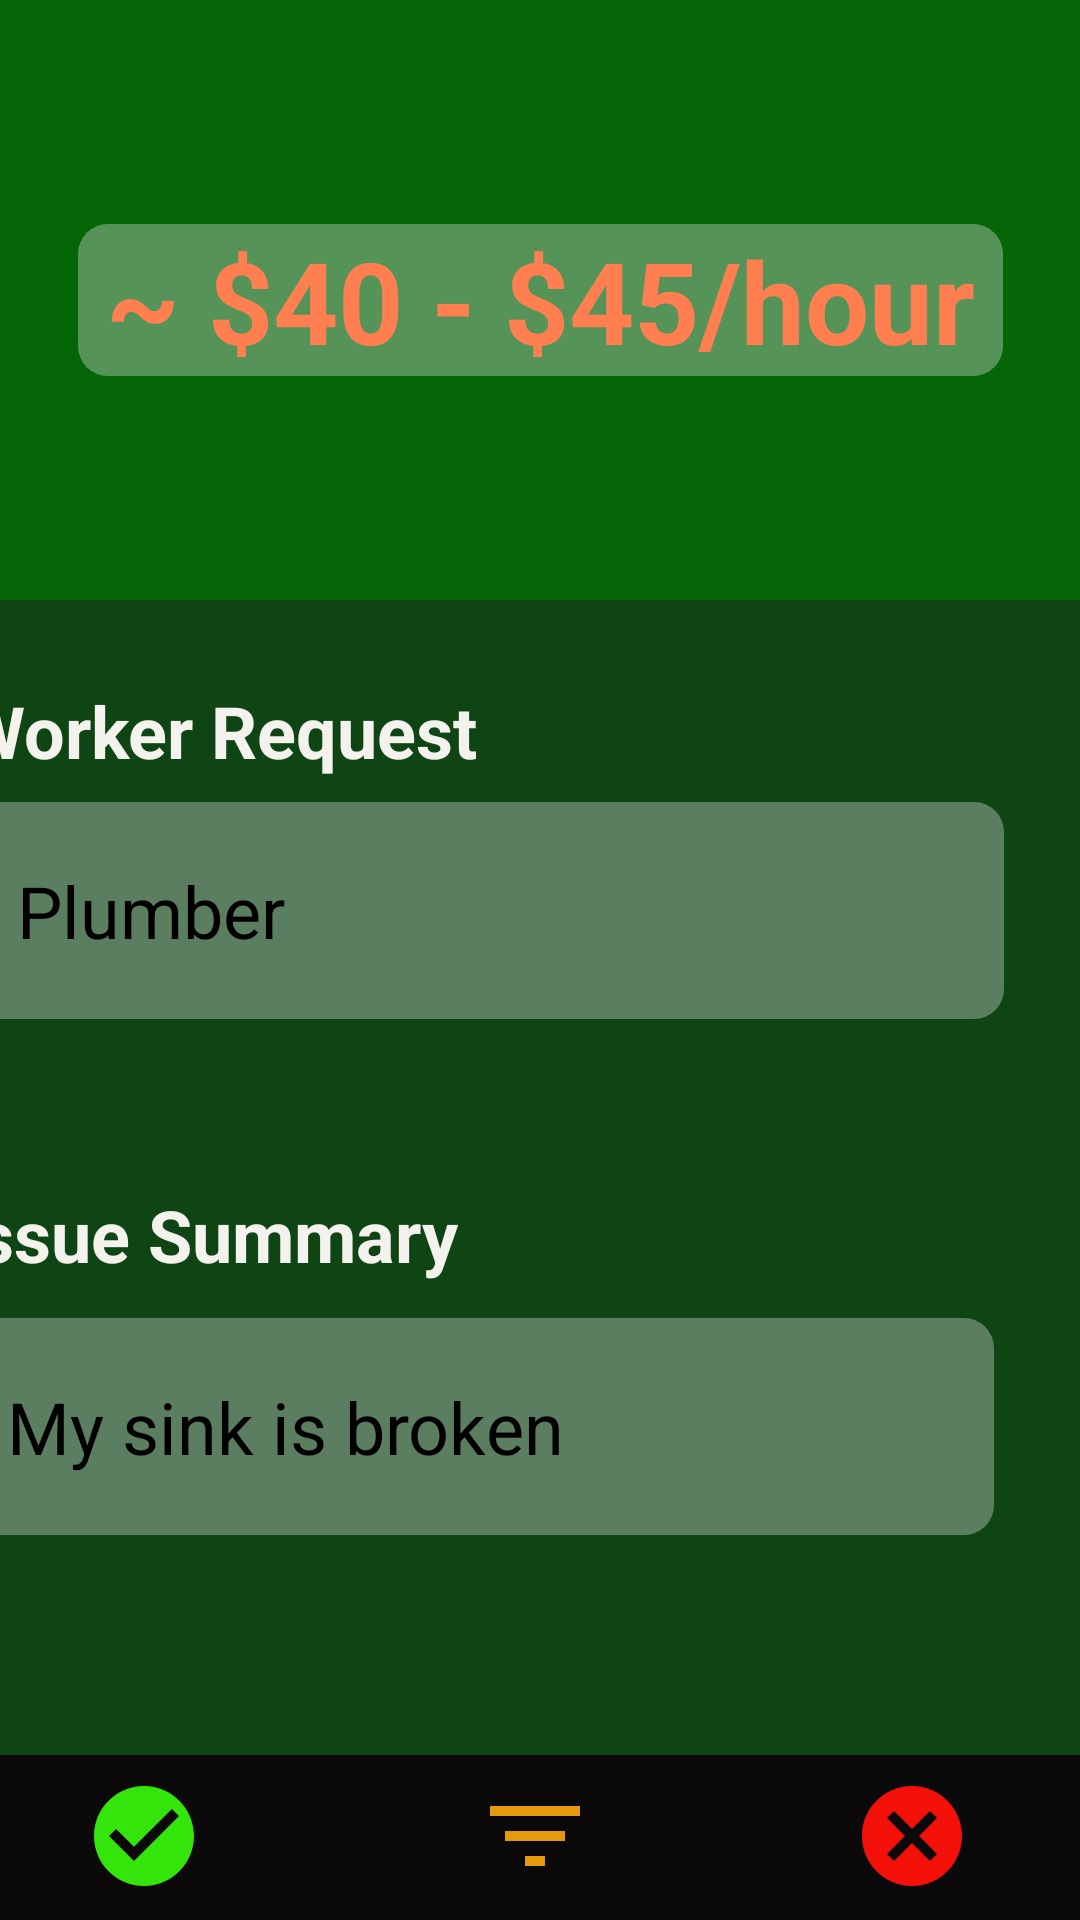

Icons on this 1080×1920 Android screen, each with the point to tap as [x,y]:
accept: [144,1836]
cancel: [912,1836]
filter: [535,1836]
